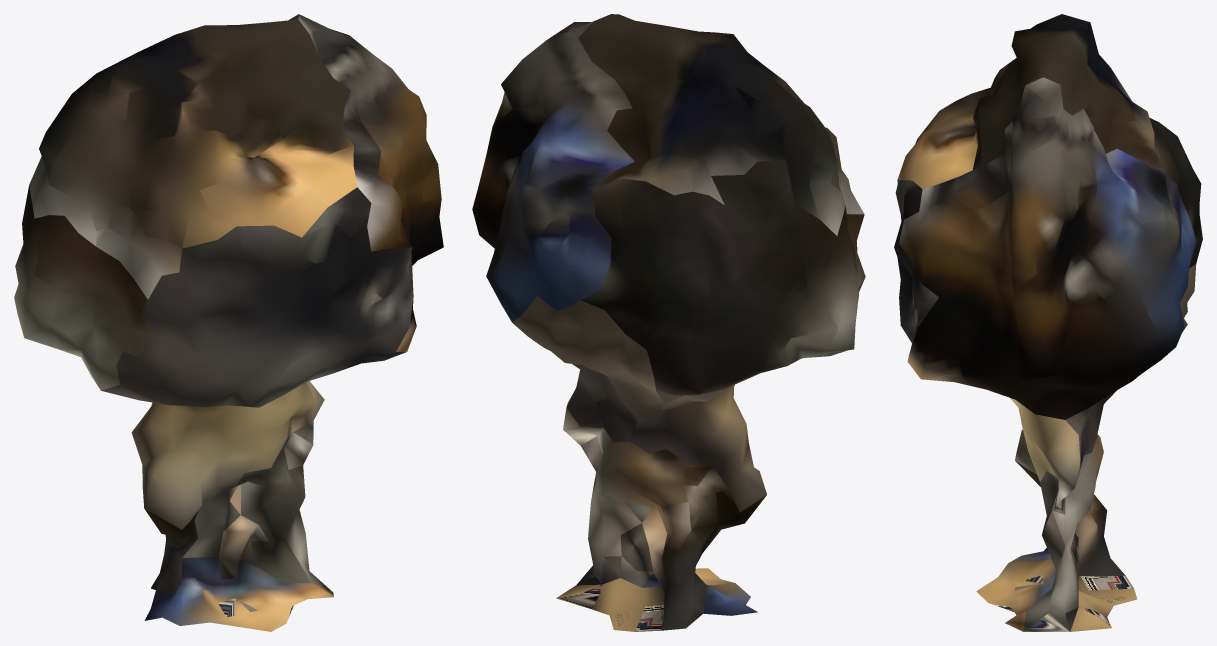
Rendered from Peacemaker.fbx.
3 renders of one model, left to right at view 1: azimuth 30°, elevation 25°; view 2: azimuth 150°, elevation 25°; view 3: azimuth 270°, elevation 25°, orthographic. The views are drawn at different scales.
Parts seen in each view (by area): view 1: textured_output; view 2: textured_output; view 3: textured_output.
Part boxes in pixels (box(x1,y1,x2,y2)): textured_output: box(14, 14, 443, 631); textured_output: box(472, 14, 865, 631); textured_output: box(894, 14, 1202, 631).
Bounding box in the file's own units: 7.7 × 10.67 × 5.41.
